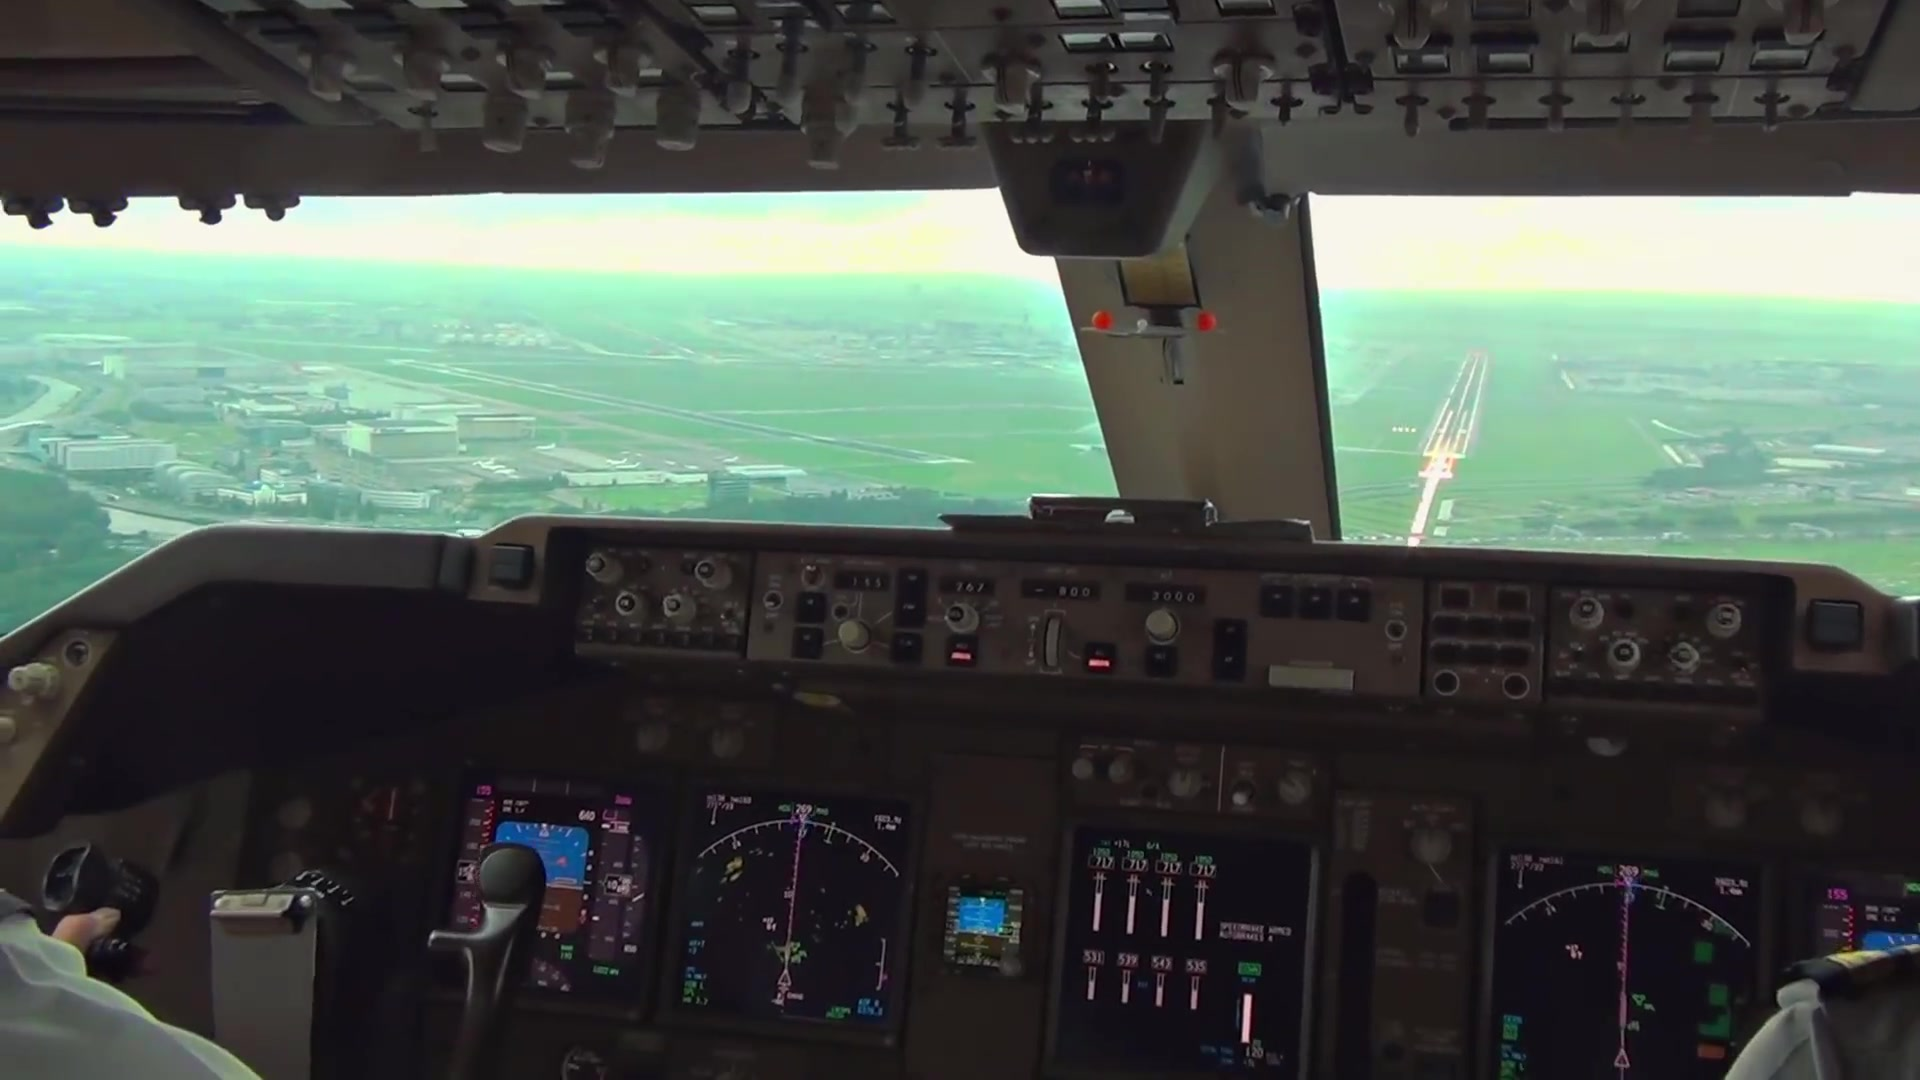runway: (1422, 349, 1491, 458)
